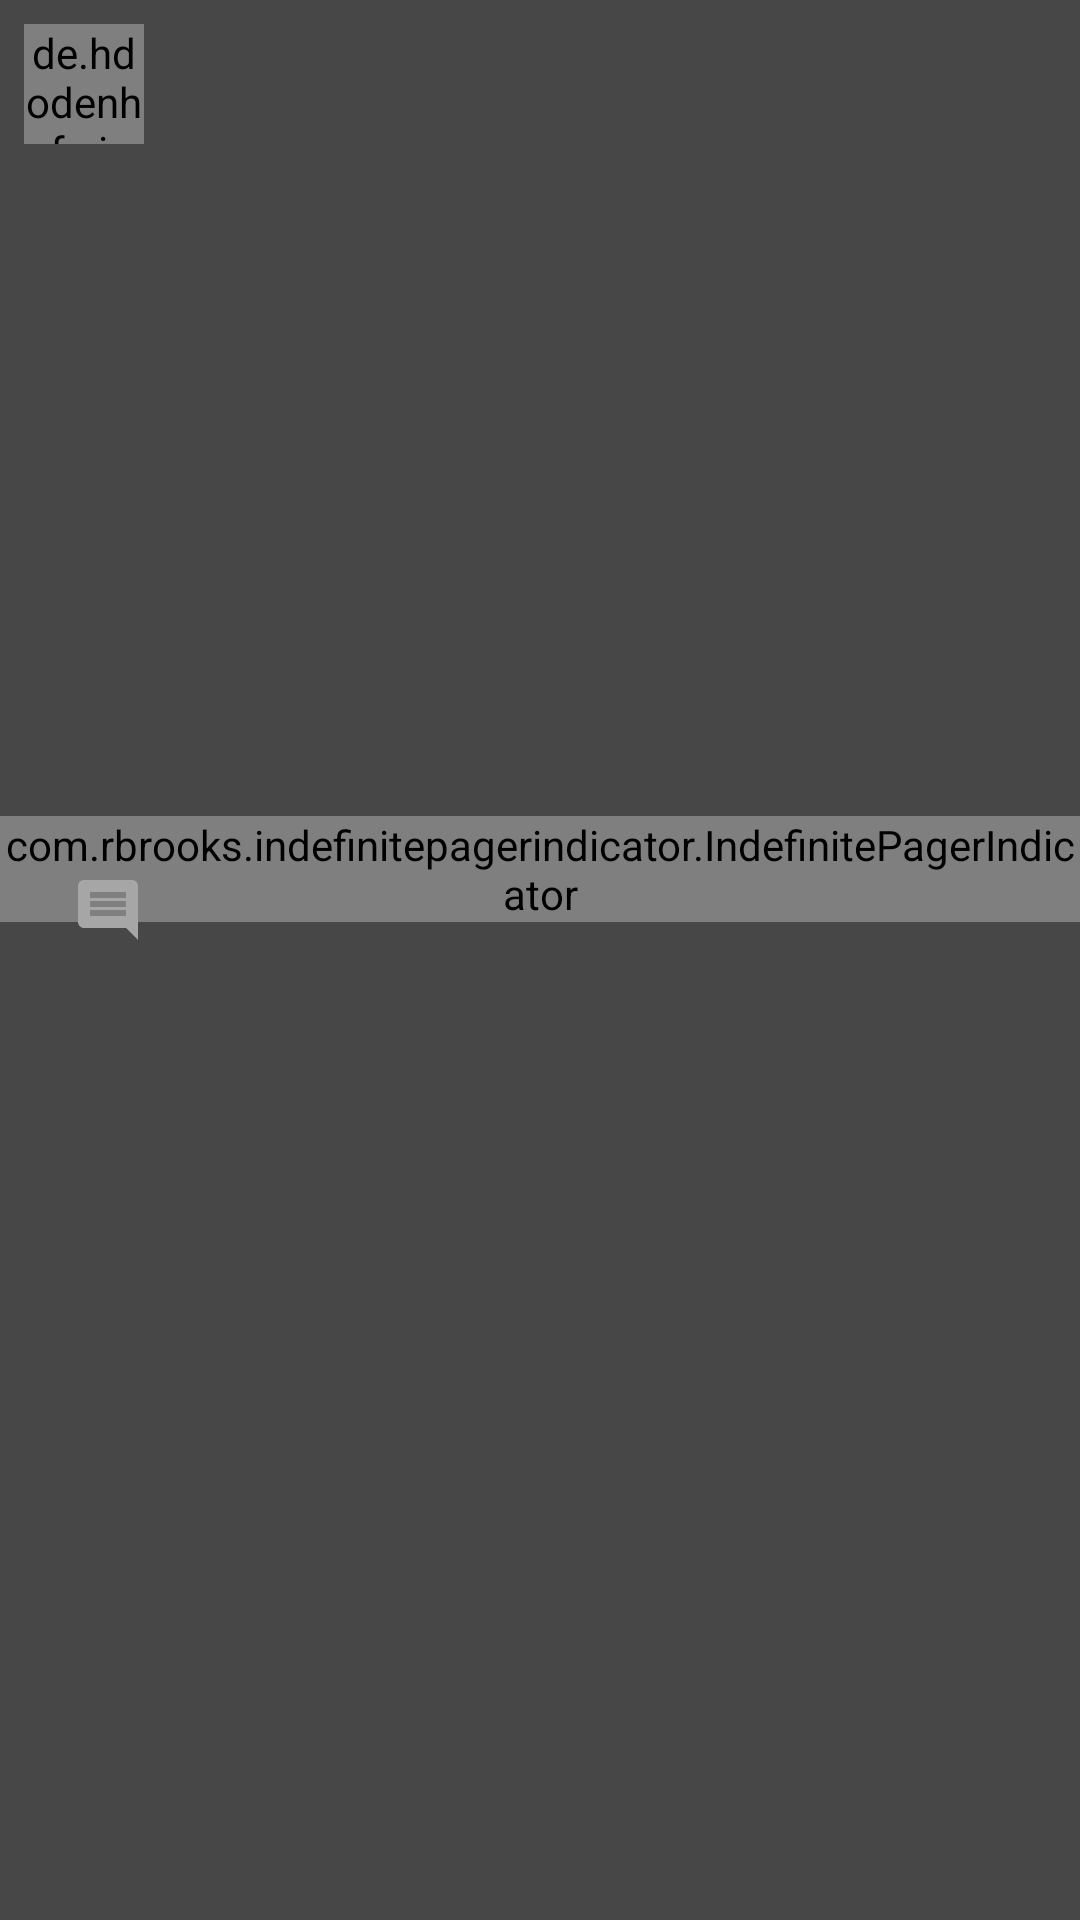

Icon click points for this 1080 × 1920 phone screenshot, format (x=x, y=y):
comment: (x=108, y=910)
